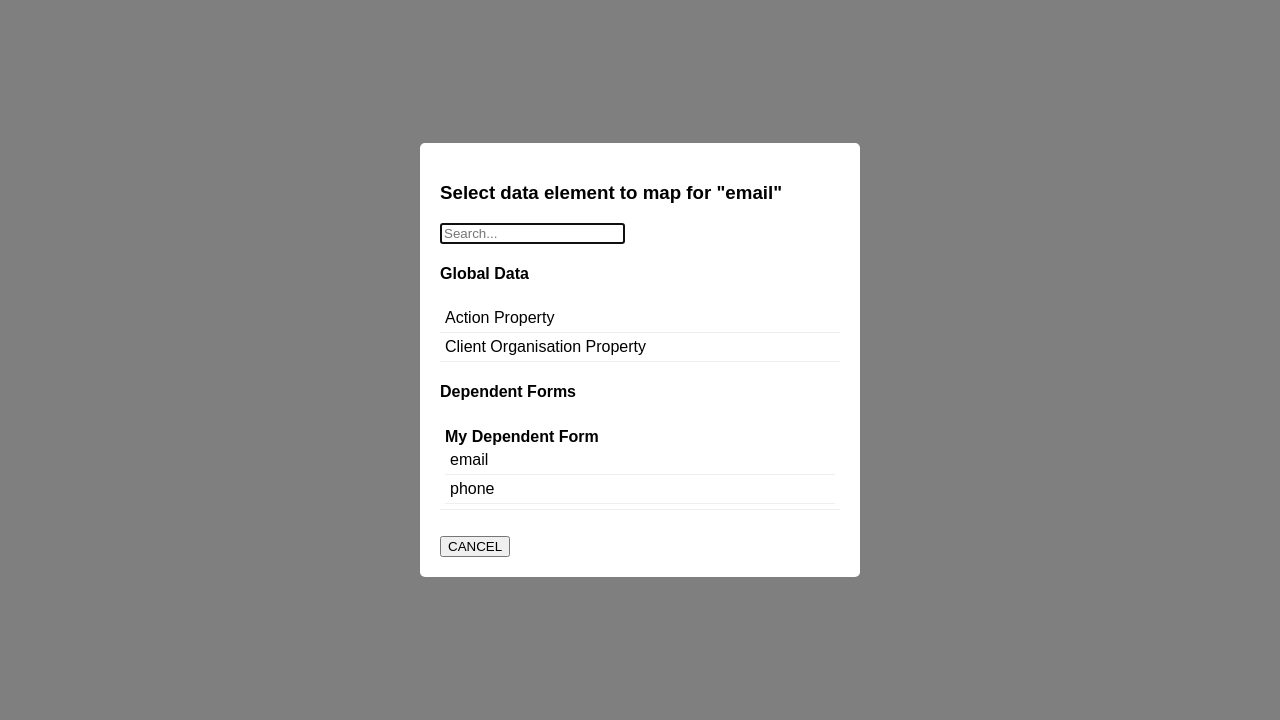
MappingModal Dependent Section Unaffected by Global Search › displays dependent forms options regardless of the search input
Expected: the heading "Dependent Forms" is shown, [440,384,576,400]
Expected: the button "email" is shown, [445,446,835,475]
// Type a search term that does not match any global options.
Type "nonexistent" into the field with placeholder "Search..." at coordinates (532, 233), box [440,223,625,244]
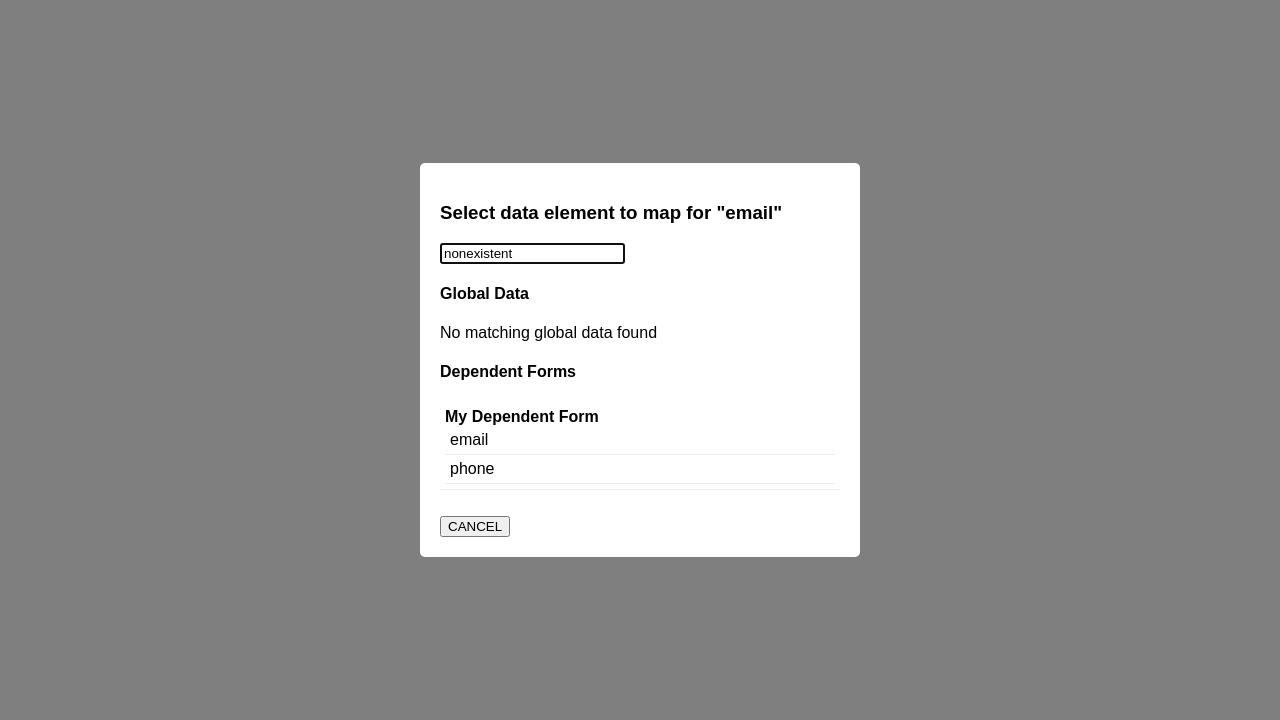
Expected: the heading "Dependent Forms" is shown, [440,364,576,380]
Expected: the text "No matching global data found" is shown, [440,324,657,341]
